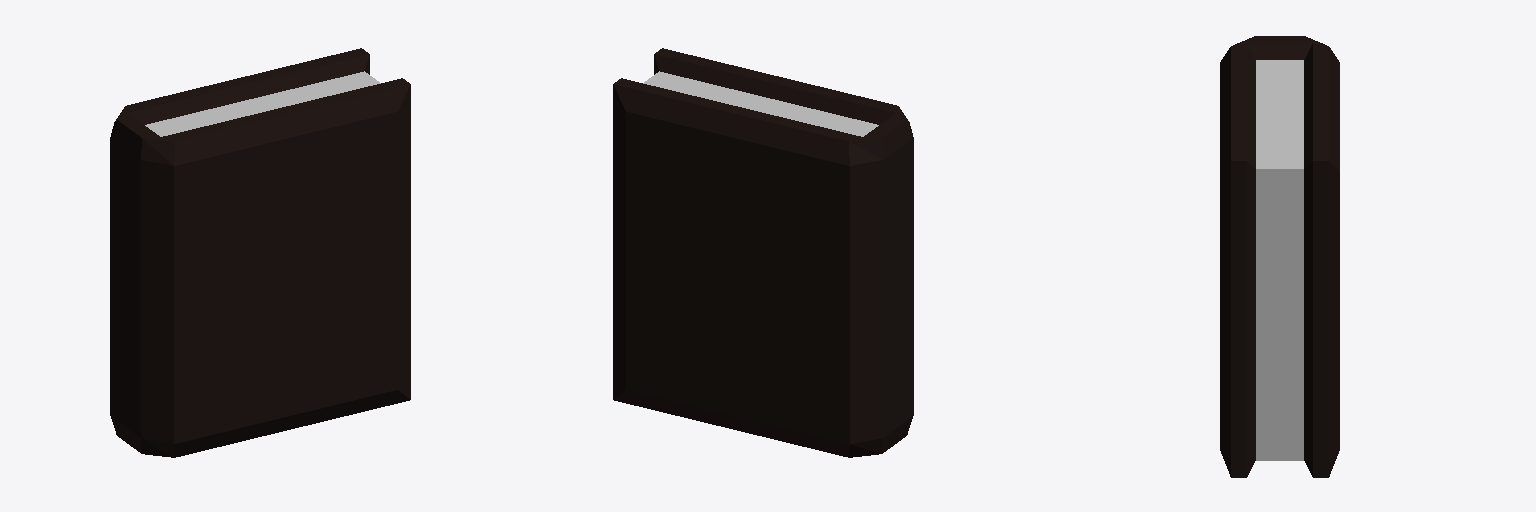
Rendered from bookD.obj.
The picture shows the model from 3 angles: view 1: azimuth 30°, elevation 25°; view 2: azimuth 150°, elevation 25°; view 3: azimuth 270°, elevation 25°; orthographic projection.
Parts seen in each view (by area): view 1: bookD_Cube.4072; view 2: bookD_Cube.4072; view 3: bookD_Cube.4072.
Boxes of the visible parts, x1=… form: bookD_Cube.4072: x1=110, y1=48, x2=410, y2=457; bookD_Cube.4072: x1=613, y1=48, x2=913, y2=457; bookD_Cube.4072: x1=1220, y1=36, x2=1339, y2=477.
Bounding box in the file's own units: 0.3586 × 0.4161 × 0.1431.